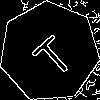T: (24, 27, 77, 81)
